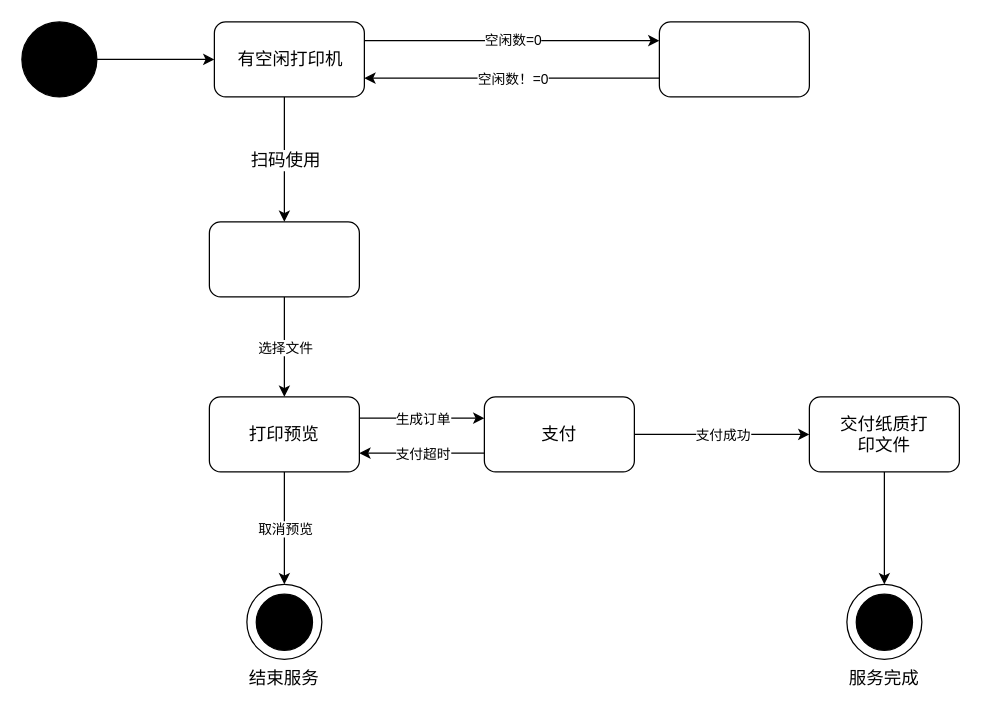
Image size: 981x719. Some labels were removed from this diagram. The box of each missing label's shape, as (x1, y1, x2, y2) in pixels:
待选择打印的文件: (208, 221, 359, 297)
没有空闲打印机: (658, 21, 809, 97)
